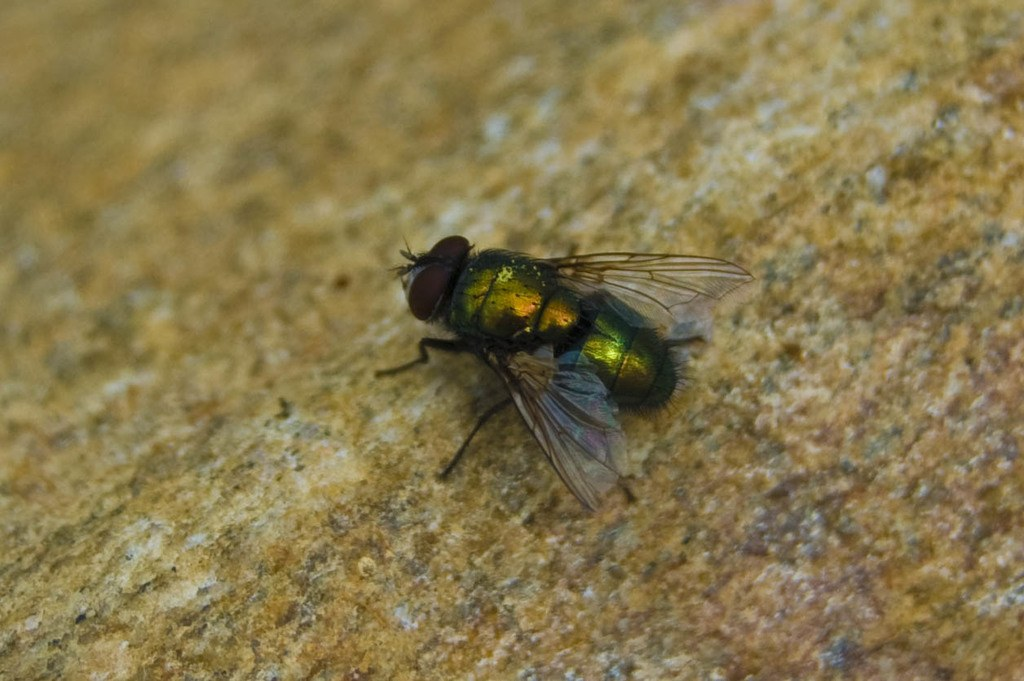bee: (399, 223, 738, 444)
